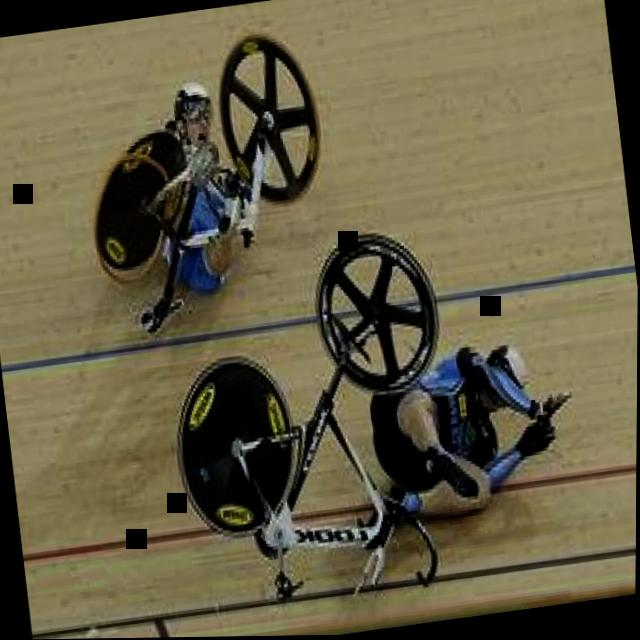Fall-Detected: (103, 53, 299, 329)
